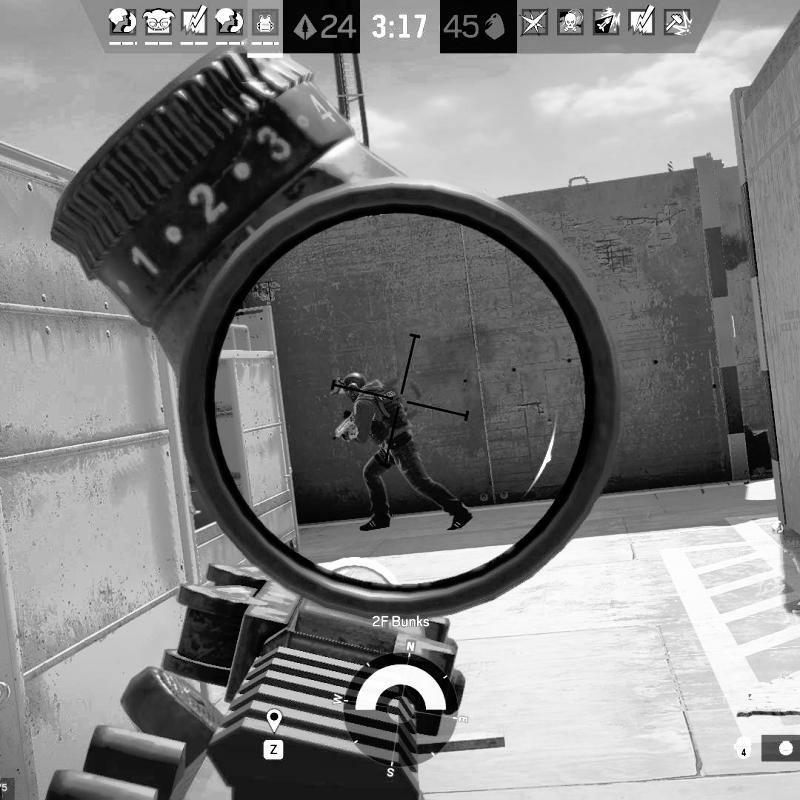Character: (329, 370, 477, 533)
Friend_label: (748, 521, 800, 548)
Head: (341, 371, 370, 400)
